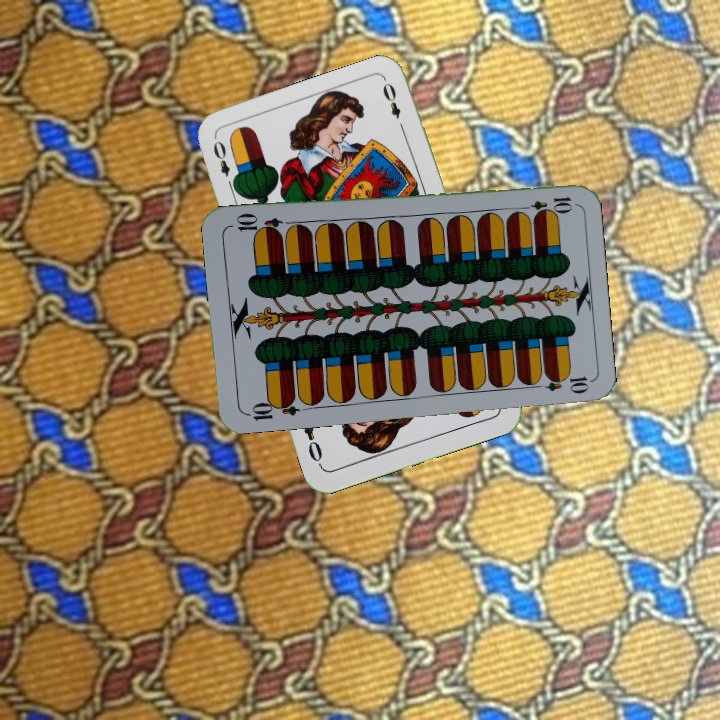E10: (242, 393, 301, 423), (516, 192, 575, 215)
EO: (209, 136, 238, 193)
